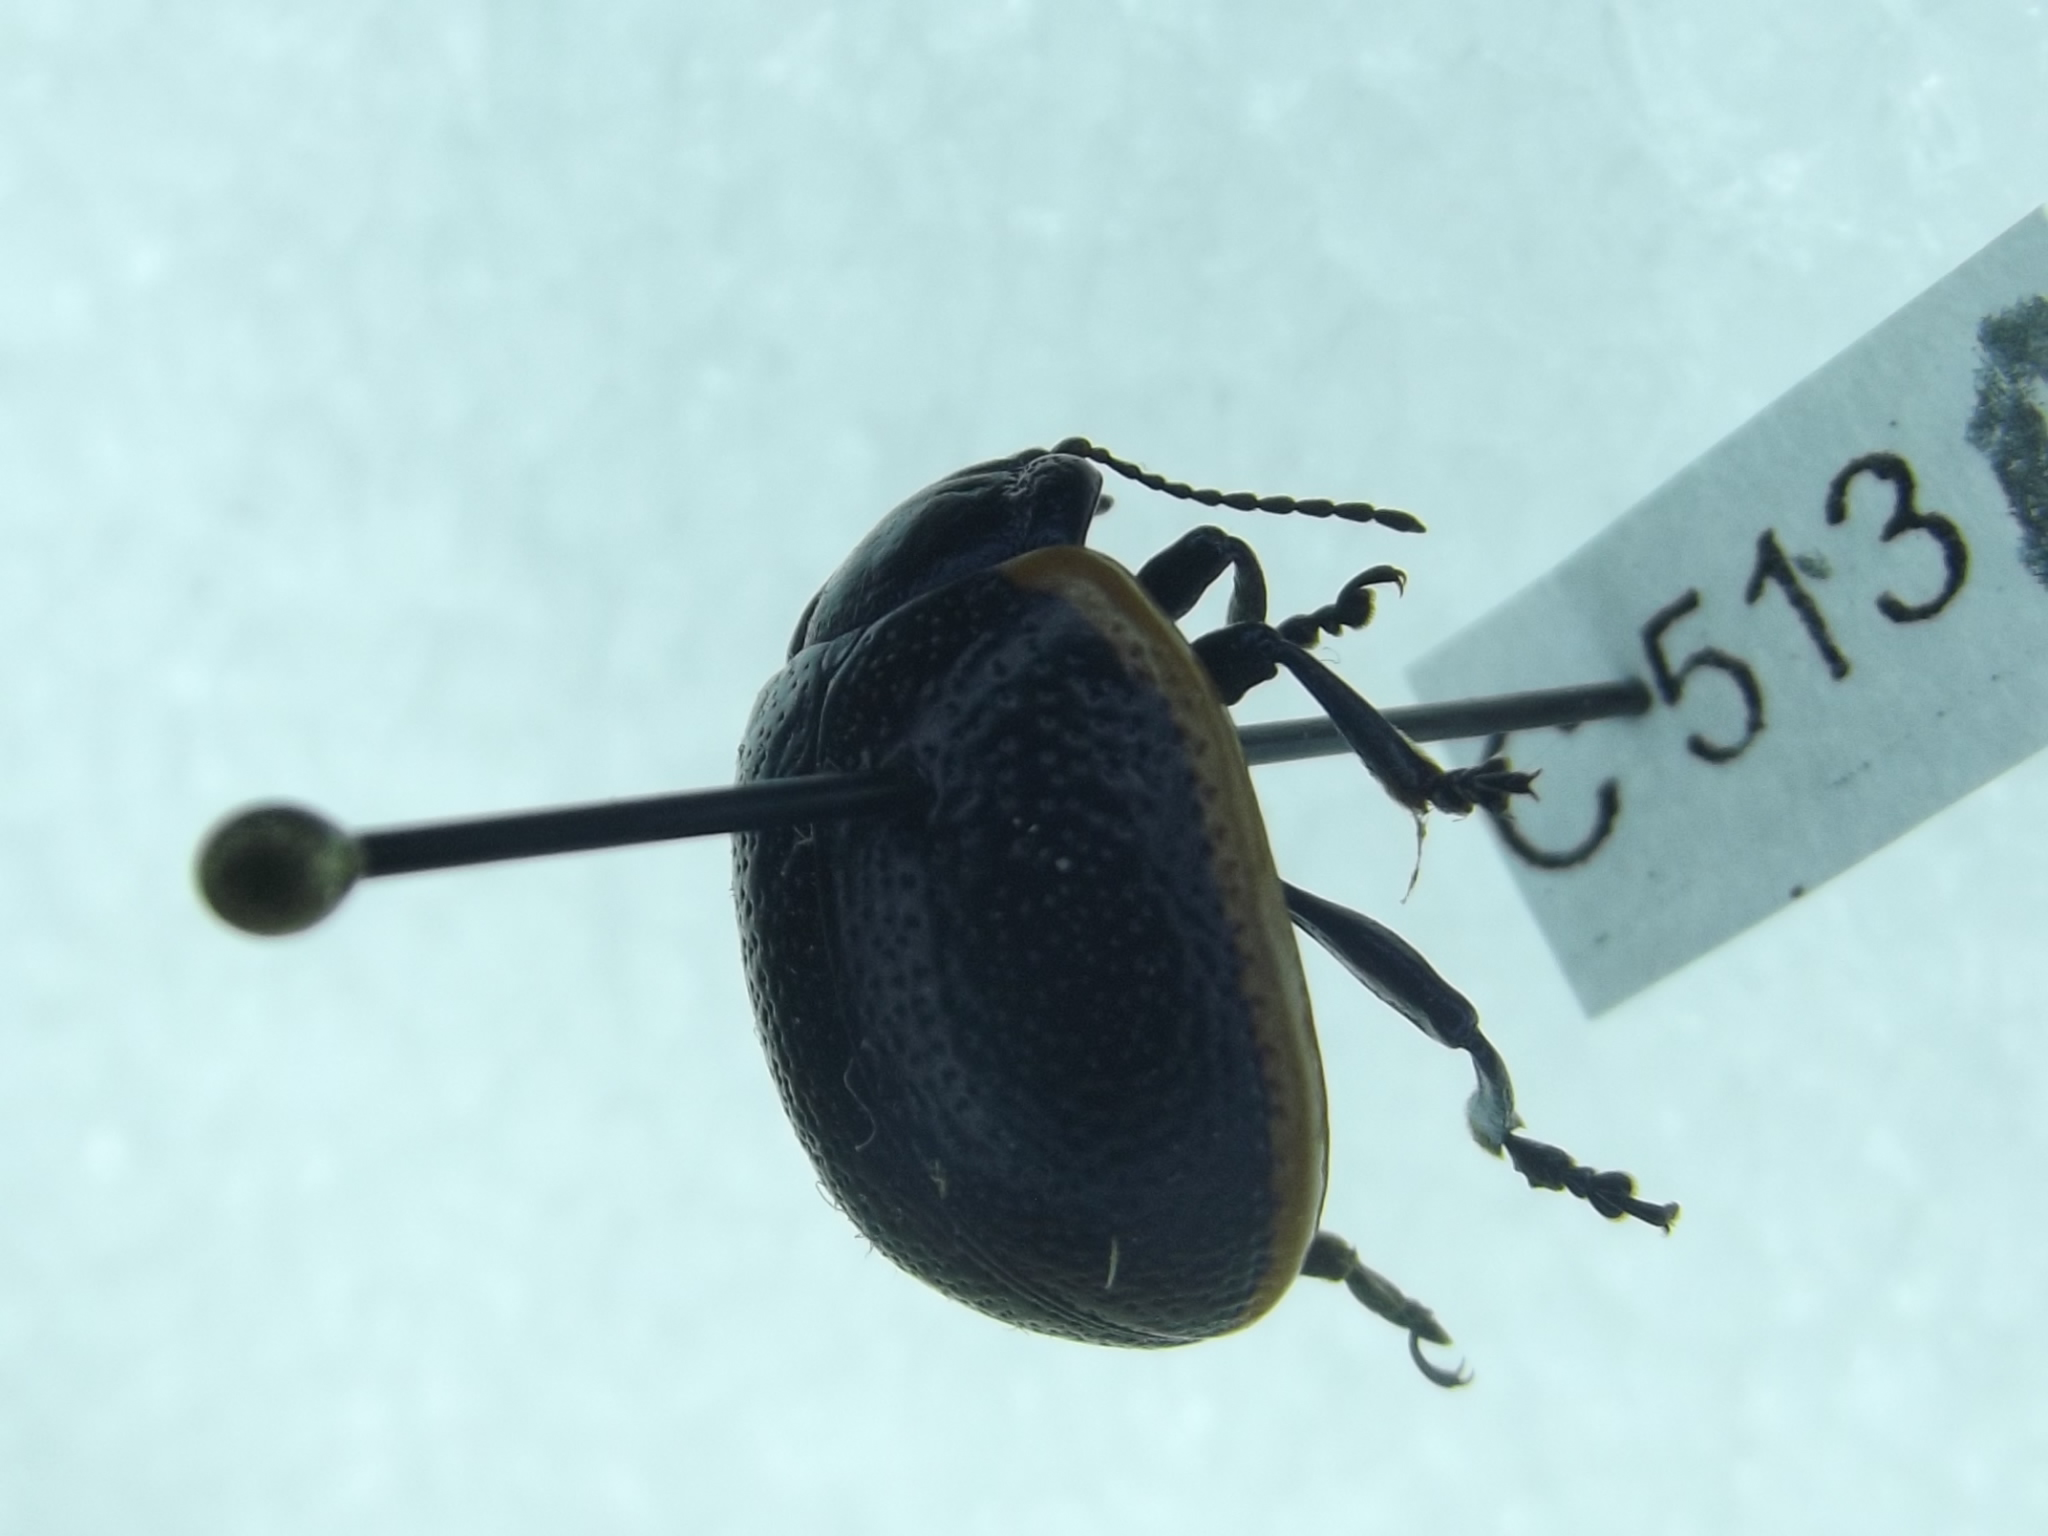Chrysolina_gypsophila: (706, 374, 1700, 1391)
